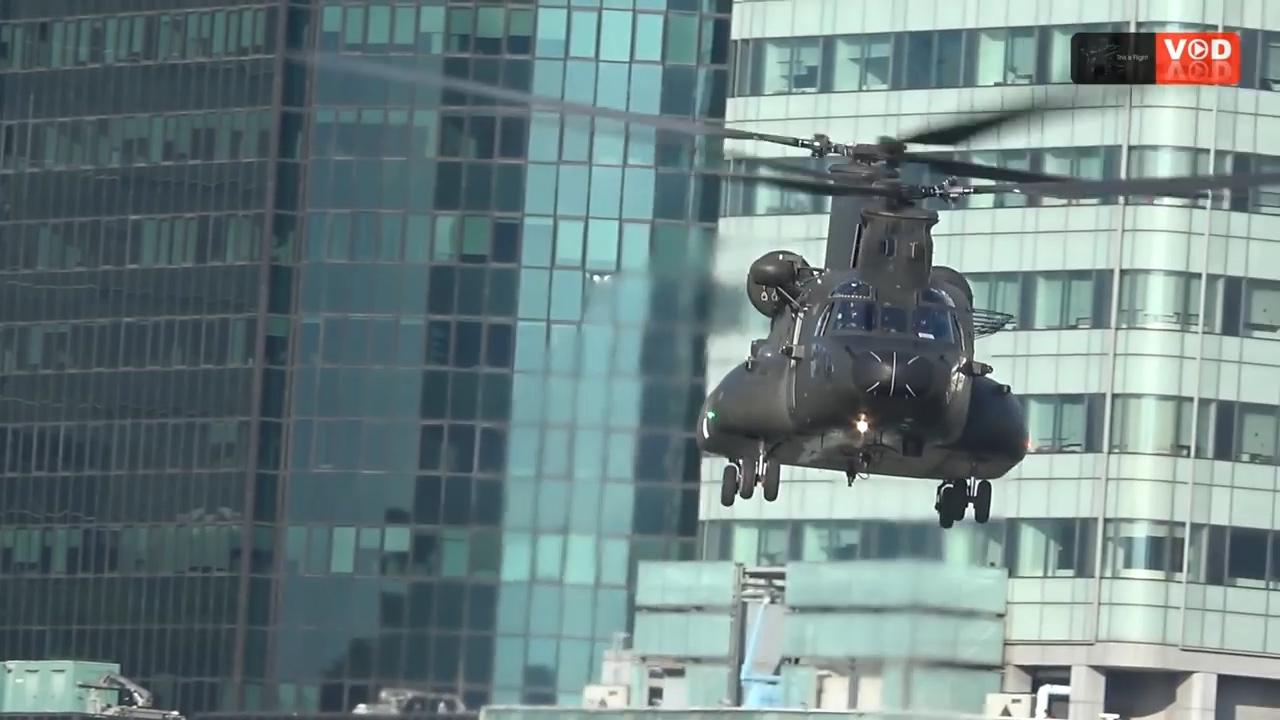chinook: (274, 39, 1280, 531)
